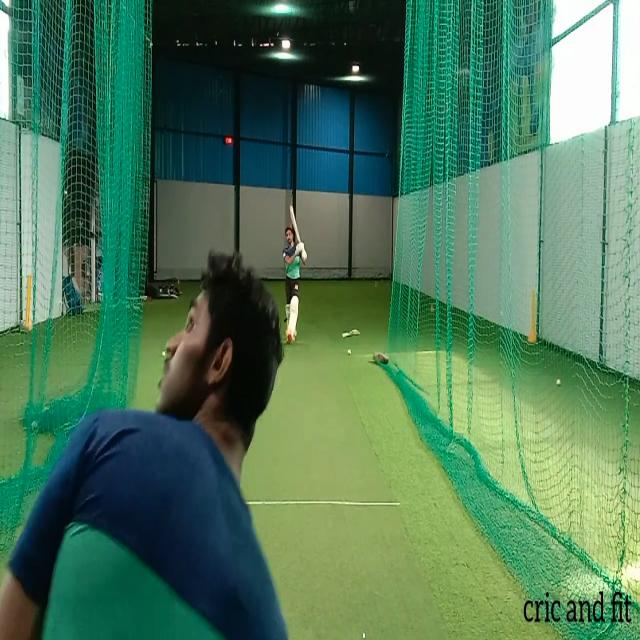batsman: (281, 204, 308, 346)
